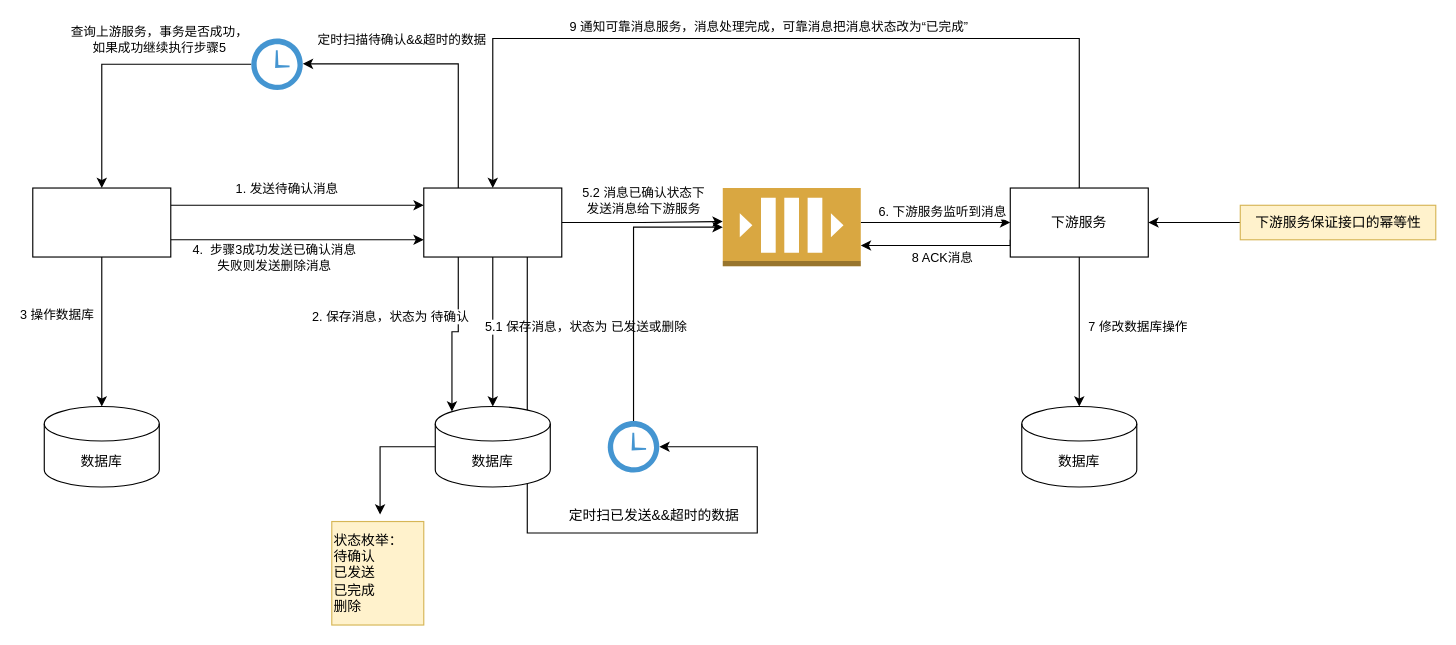
Image size: 1456x645. Some labels were removed from this diagram. Here are the shapes that lost their labels. From the top down, the centre of each, then its label:
At point (101, 222): "上游服务".
At point (492, 222): "可靠消息服务".
At point (791, 226): "MQ".
